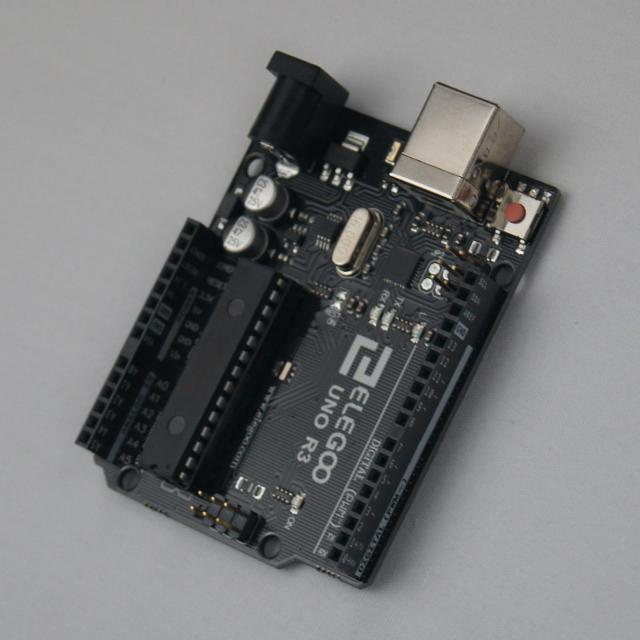Arduino Uno -Black-: (78, 52, 559, 587)
